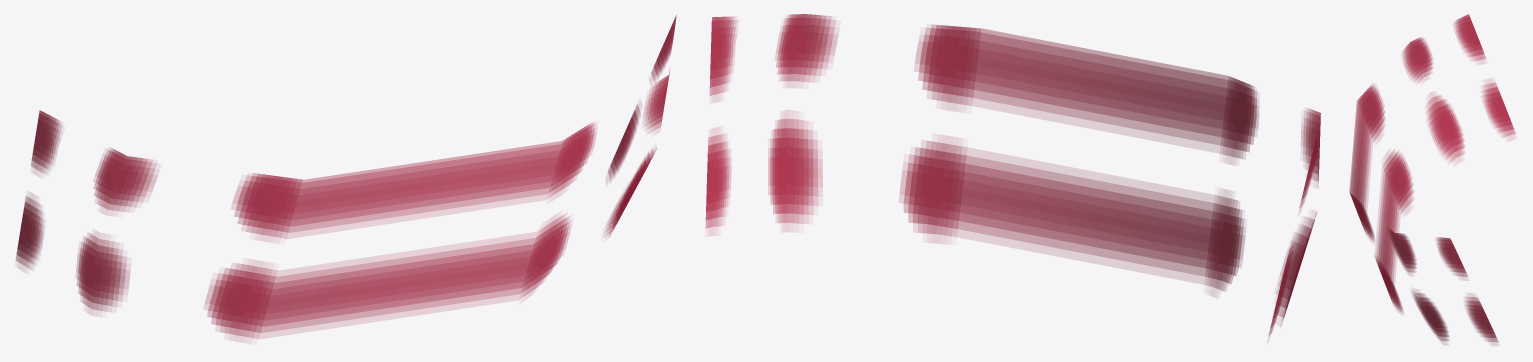
3 views of the same model, side by side, from view 1: azimuth 30°, elevation 25°; view 2: azimuth 150°, elevation 25°; view 3: azimuth 270°, elevation 25° (orthographic). The views are drawn at different scales.
Visible parts, largest first — view 1: ef_535; view 2: ef_535; view 3: ef_535.
Part boxes in pixels (x1,y1,x2,y2): ef_535: (16, 15, 676, 341); ef_535: (705, 14, 1320, 341); ef_535: (1349, 14, 1515, 345).
Size of the model in its own units: 1.22 by 0.488 by 0.4493.
Materials: 1 (1 with a texture image).
